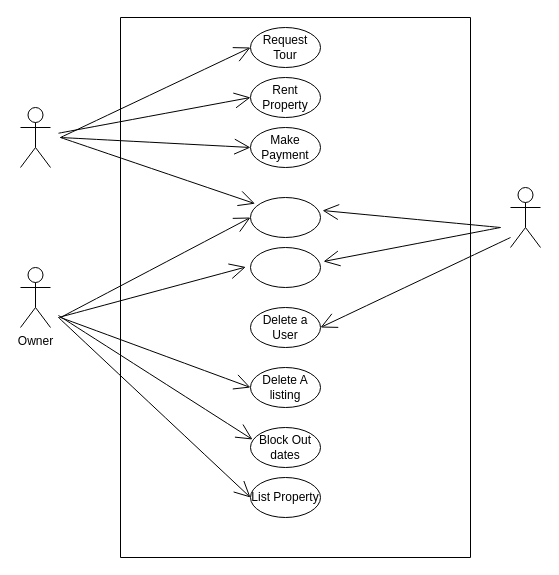
This 559x575 diagram has some shape labels left out. The centre of each missing label's shape, as x and y in pixels:
Admin: point 525,217
Cancel rental: point 285,217
New Profile: point 285,267
Renter: point 35,137
